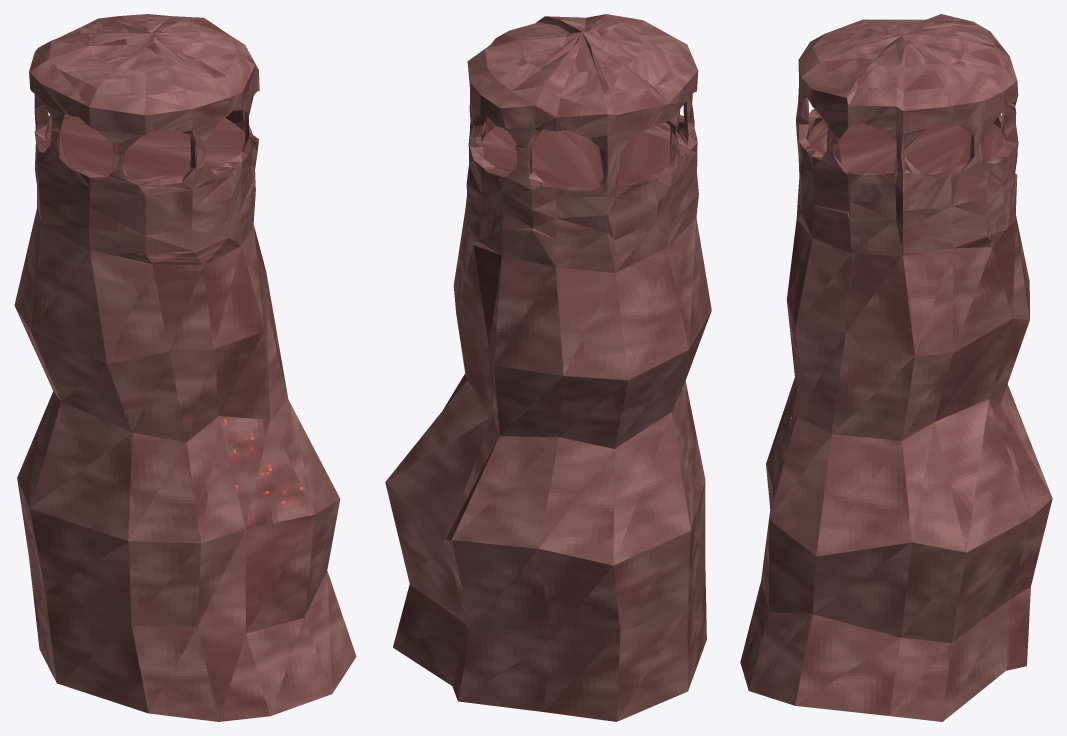
Rendered from tower.glb.
3 views of the same model, side by side, from view 1: azimuth 30°, elevation 25°; view 2: azimuth 150°, elevation 25°; view 3: azimuth 270°, elevation 25° (orthographic). The views are drawn at different scales.
Parts seen in each view (by area): view 1: TowerRock; view 2: TowerRock; view 3: TowerRock.
Part boxes in pixels (x1,y1,x2,y2): TowerRock: [14, 14, 356, 721]; TowerRock: [385, 14, 711, 721]; TowerRock: [740, 14, 1052, 721].
Size of what is drawn, in the model's own units: 22.05 by 47.46 by 21.98.
1 material, 1 textured.
